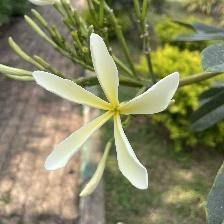champaka: (32, 30, 187, 197)
